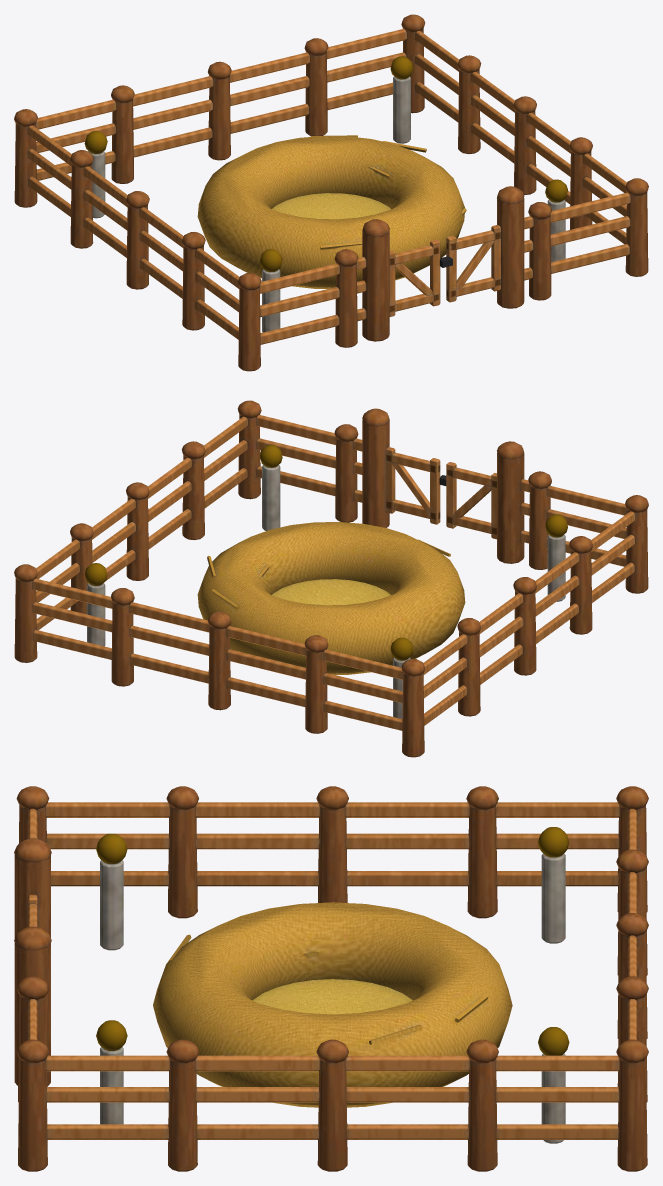
The model's file is golden_nest.glb.
3 views of the same model, one above another, from view 1: azimuth 30°, elevation 25°; view 2: azimuth 150°, elevation 25°; view 3: azimuth 270°, elevation 25° (orthographic). The views are drawn at different scales.
Visible parts, largest first — view 1: golden_nest; view 2: golden_nest; view 3: golden_nest.
Part boxes in pixels (x1,y1,x2,y2): golden_nest: [14, 14, 648, 371]; golden_nest: [14, 400, 648, 757]; golden_nest: [14, 786, 648, 1171].
Bounding box in the file's own units: 2 × 0.5647 × 2.01.
1 material, 1 textured.
